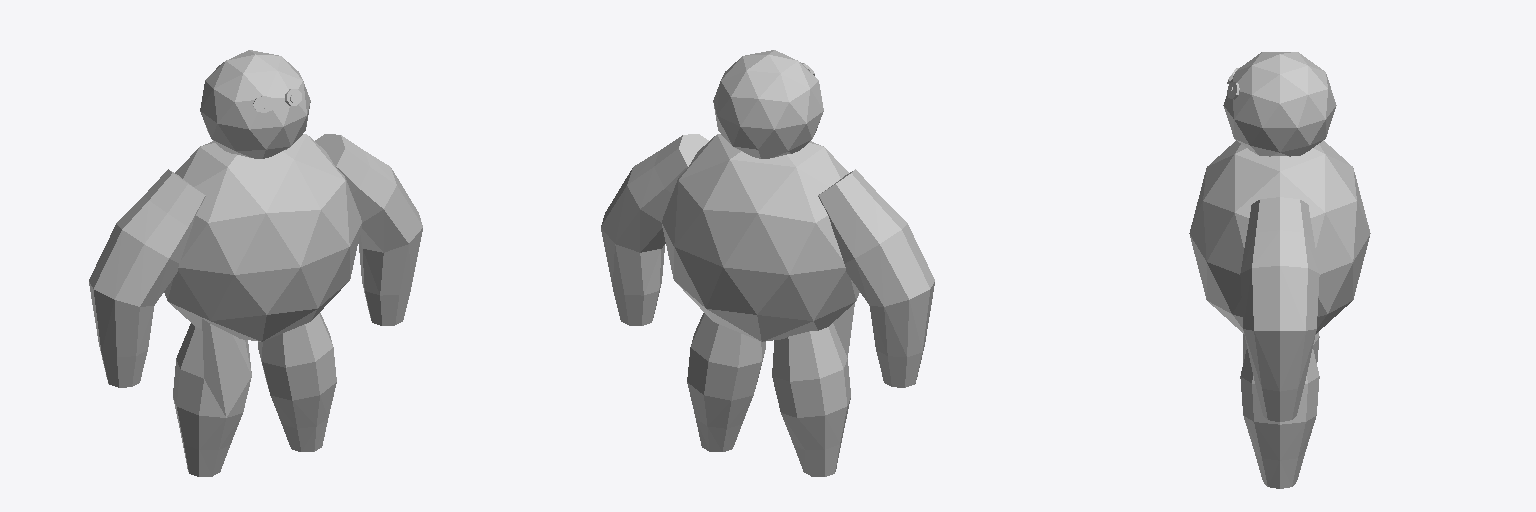
File: bigboi_rigged_000001.obj
3 views of the same model, side by side, from view 1: azimuth 30°, elevation 25°; view 2: azimuth 150°, elevation 25°; view 3: azimuth 270°, elevation 25° (orthographic).
Parts seen in each view (by area): view 1: Cube; view 2: Cube; view 3: Cube.
Boxes of the visible parts, x1,y1,x2,y2 form: Cube: [89, 50, 422, 476]; Cube: [601, 50, 934, 476]; Cube: [1189, 52, 1370, 488].
Bounding box in the file's own units: 6.63 × 7.86 × 3.2.